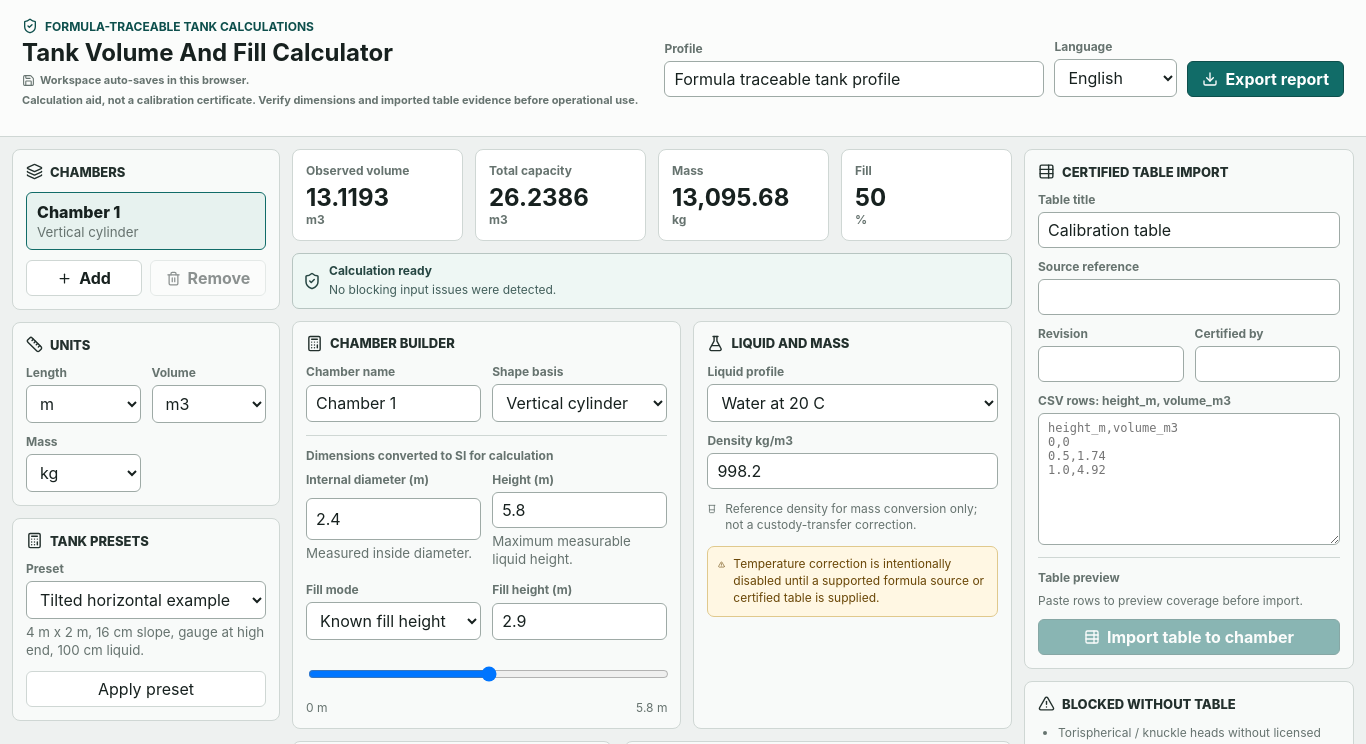
Scenario: App audit console › shows blocking validation near the headline results
Replace the text in the number field labelled "Internal diameter (m) Measured inside diameter." with "0" at (394, 519), box [306, 498, 481, 540]
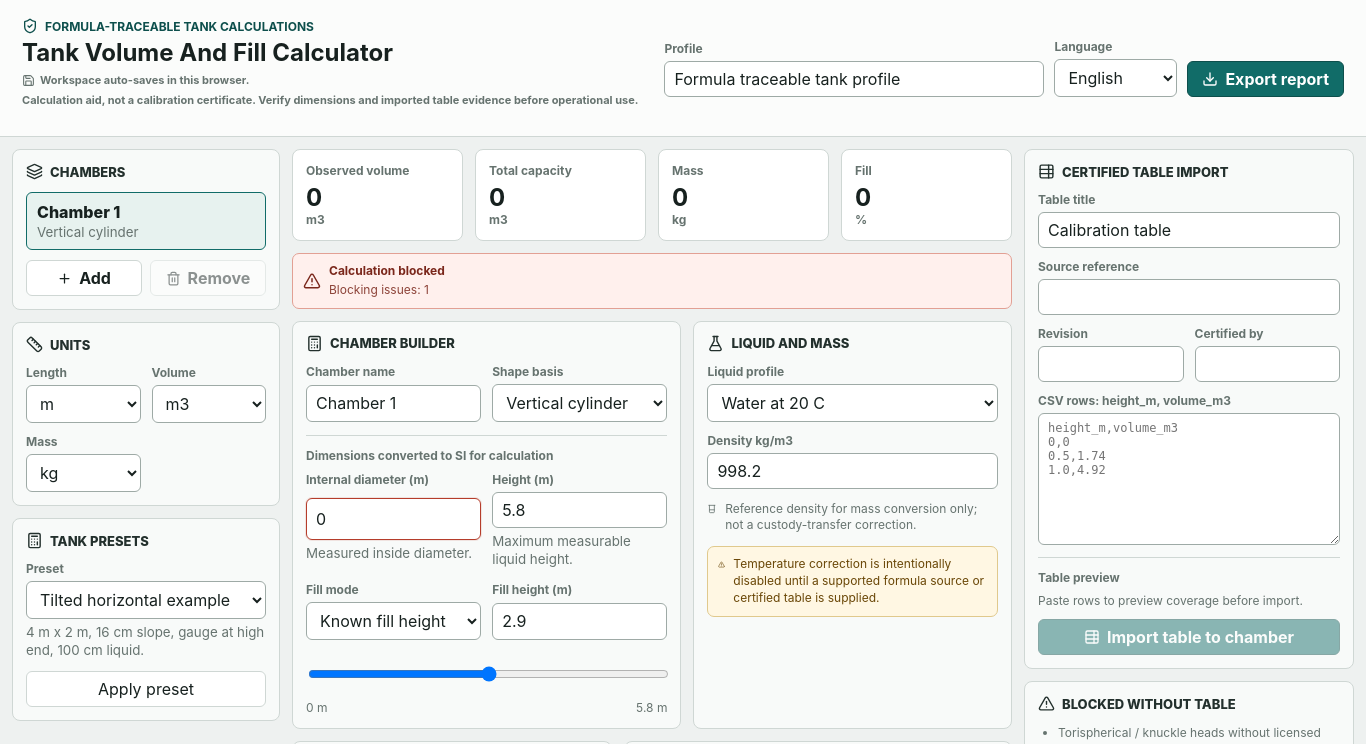
Expected: the text "Calculation blocked" is shown, [329, 263, 445, 280]
Expected: the text "Blocking issues: 1" is shown, [329, 282, 445, 299]
